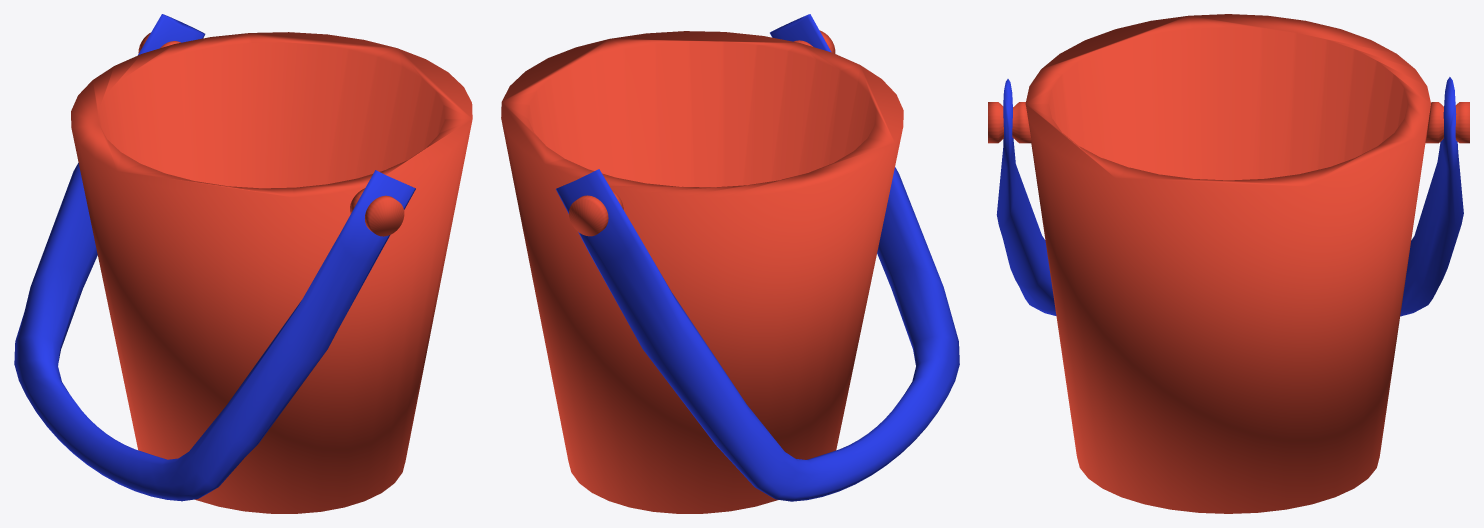
File: Sand Pail.fbx
The picture shows the model from 3 angles, left to right: view 1: azimuth 30°, elevation 25°; view 2: azimuth 150°, elevation 25°; view 3: azimuth 270°, elevation 25°; orthographic projection. The views are drawn at different scales.
Visible parts, largest first — view 1: Pail, Handle; view 2: Pail, Handle; view 3: Pail, Handle.
Boxes of the visible parts, <box> form: Pail: <box>71,32,472,513</box>; Handle: <box>14,14,415,501</box>; Pail: <box>501,30,903,513</box>; Handle: <box>556,14,959,501</box>; Pail: <box>988,14,1469,513</box>; Handle: <box>996,77,1463,316</box>.
Size of the model in its own units: 11.78 by 11.26 by 12.99.
